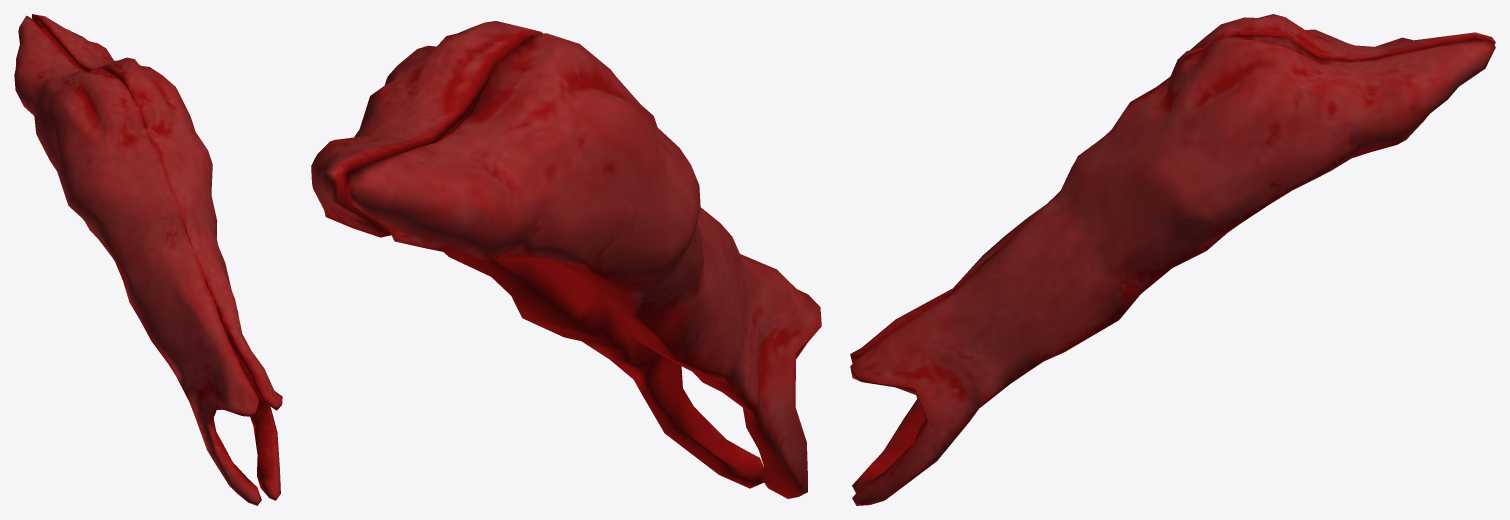
The model's file is Dorsal_Nasal_Concha.glb.
The picture shows the model from 3 angles, left to right: view 1: azimuth 30°, elevation 25°; view 2: azimuth 150°, elevation 25°; view 3: azimuth 270°, elevation 25°; orthographic projection. The views are drawn at different scales.
Visible parts, largest first — view 1: dorsal_nasal_concha.001; view 2: dorsal_nasal_concha.001; view 3: dorsal_nasal_concha.001.
Part boxes in pixels (box(x1,y1,x2,y2)): dorsal_nasal_concha.001: box(14, 14, 282, 505); dorsal_nasal_concha.001: box(311, 21, 821, 498); dorsal_nasal_concha.001: box(850, 14, 1495, 505).
Bounding box in the file's own units: 0.1066 × 0.2447 × 0.3078.
Materials: 1 (1 with a texture image).
